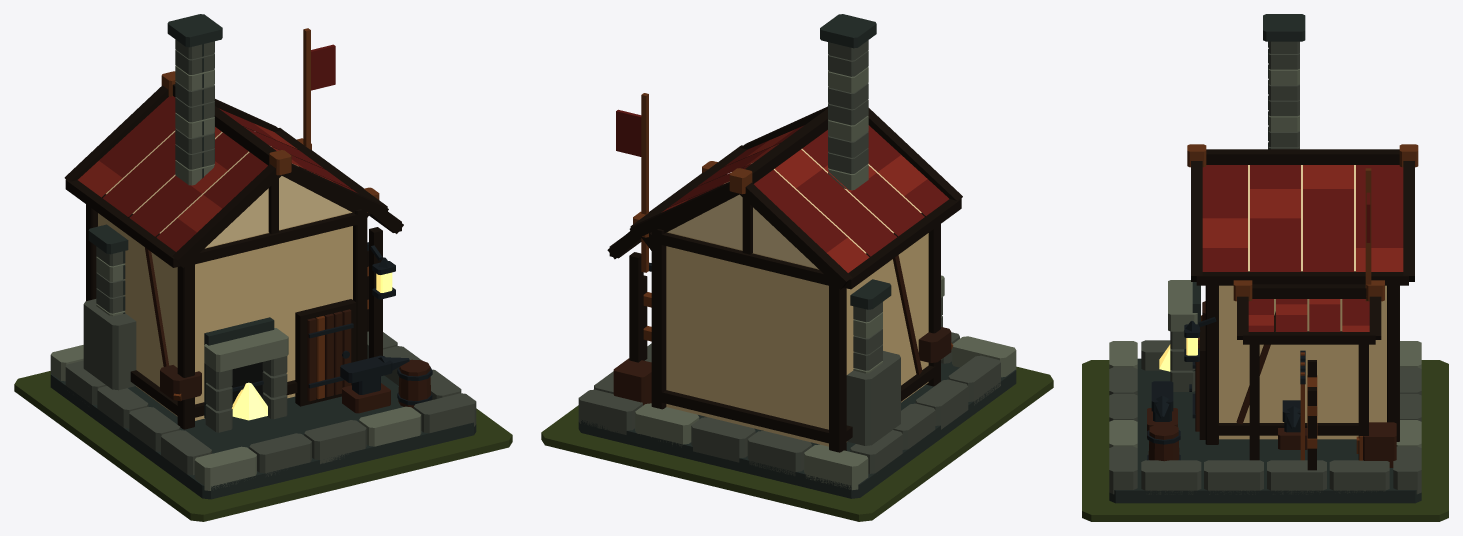
File: forge_t6.glb
3 views of the same model, side by side, from view 1: azimuth 30°, elevation 25°; view 2: azimuth 150°, elevation 25°; view 3: azimuth 270°, elevation 25° (orthographic). The views are drawn at different scales.
Parts seen in each view (by area): view 1: MMR | forge | T06 Architecture.001, MMR | forge | Tier 06 Ground.001; view 2: MMR | forge | T06 Architecture.001, MMR | forge | Tier 06 Ground.001; view 3: MMR | forge | T06 Architecture.001, MMR | forge | Tier 06 Ground.001.
Boxes of the visible parts, bbox=[...] form: MMR | forge | T06 Architecture.001: bbox=[50, 14, 476, 499]; MMR | forge | Tier 06 Ground.001: bbox=[14, 371, 512, 521]; MMR | forge | T06 Architecture.001: bbox=[578, 14, 1016, 498]; MMR | forge | Tier 06 Ground.001: bbox=[541, 366, 1053, 521]; MMR | forge | T06 Architecture.001: bbox=[1109, 14, 1421, 503]; MMR | forge | Tier 06 Ground.001: bbox=[1082, 360, 1448, 521].
Bounding box in the file's own units: 2.35 × 2.78 × 2.35.
Materials: 2 (1 with a texture image).
